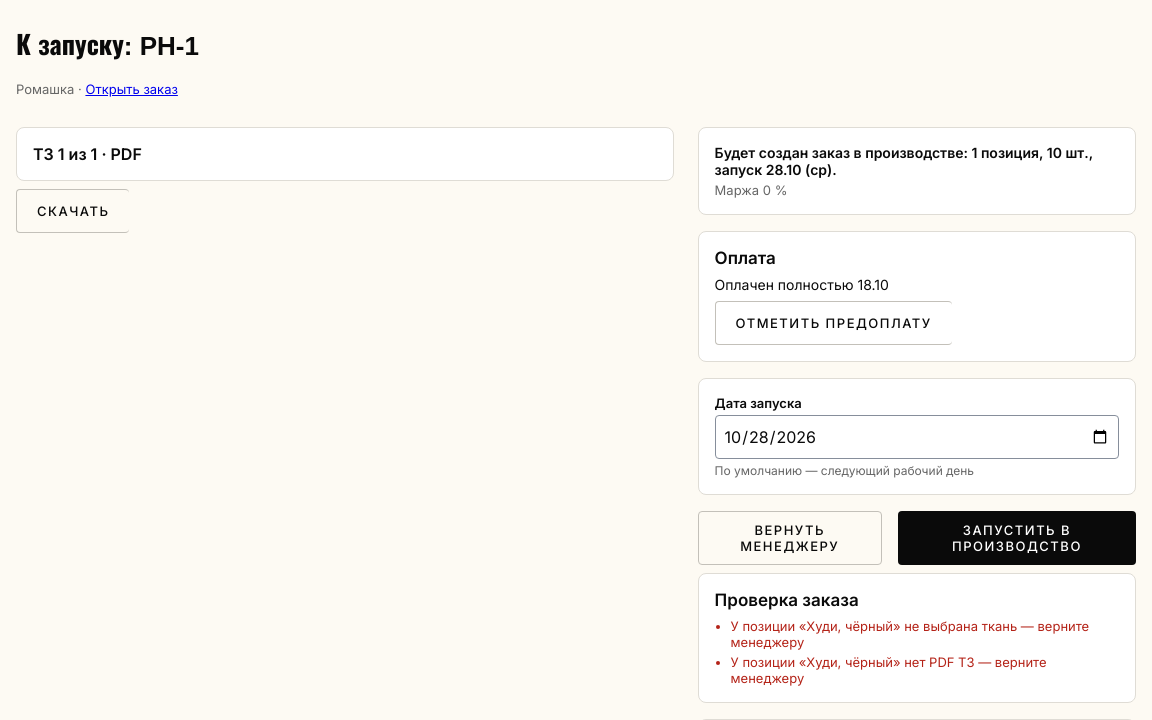
Test: LaunchScreen › запуск прошёл — итог «Заказ запущен в производство» с фокусом, дата и справочники — в запуск
In the date field labelled "Дата запуска": (917, 437) [715,415,1119,459], type "2099-10-27"
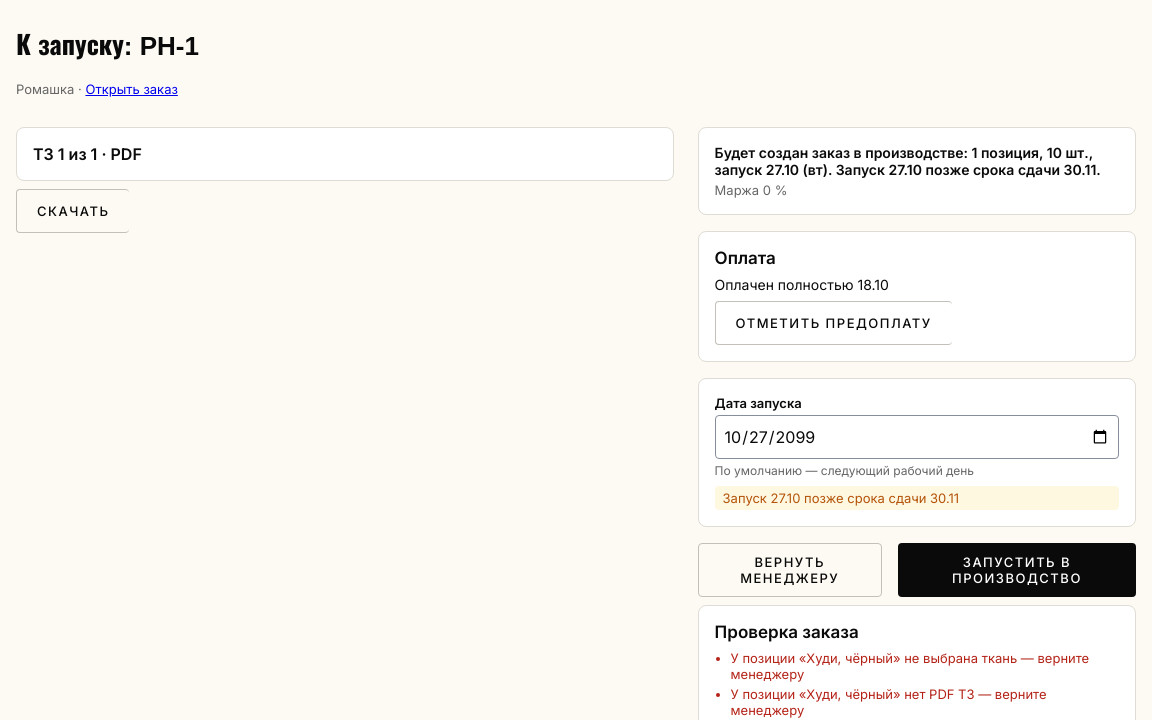
Click the button "Запустить в производство": (1017, 570) [898,543,1136,597]
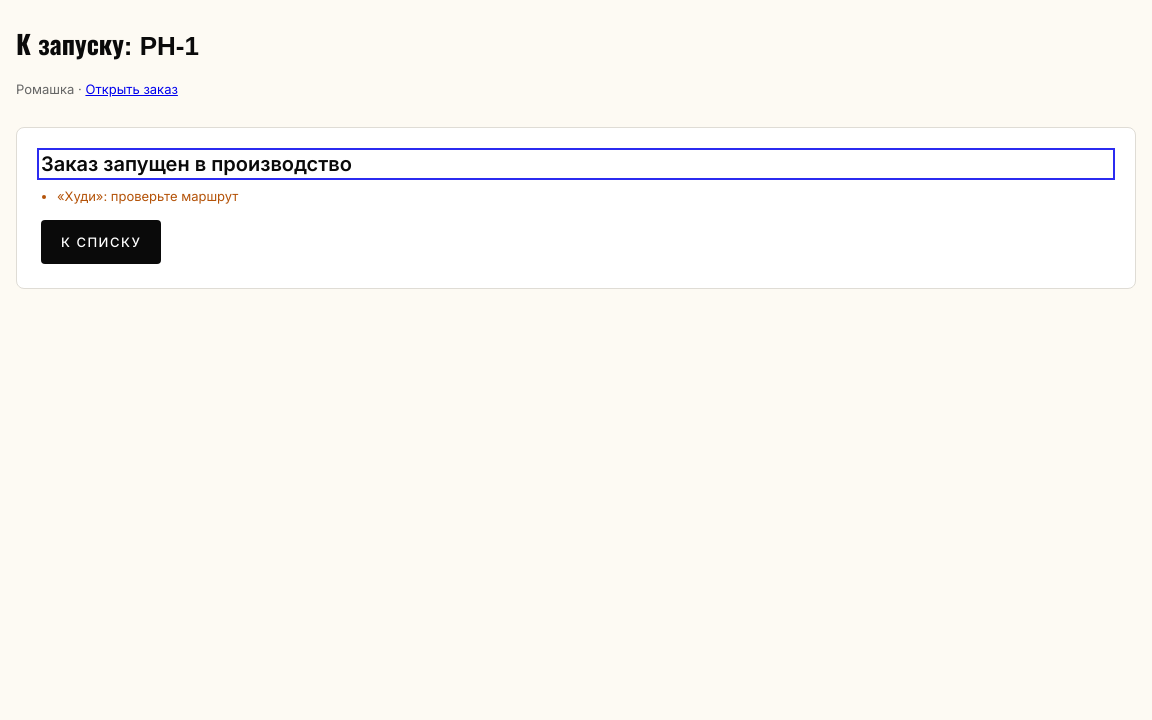
Result: the list item "«Худи»: проверьте маршрут" is shown at [57,188,238,204]
